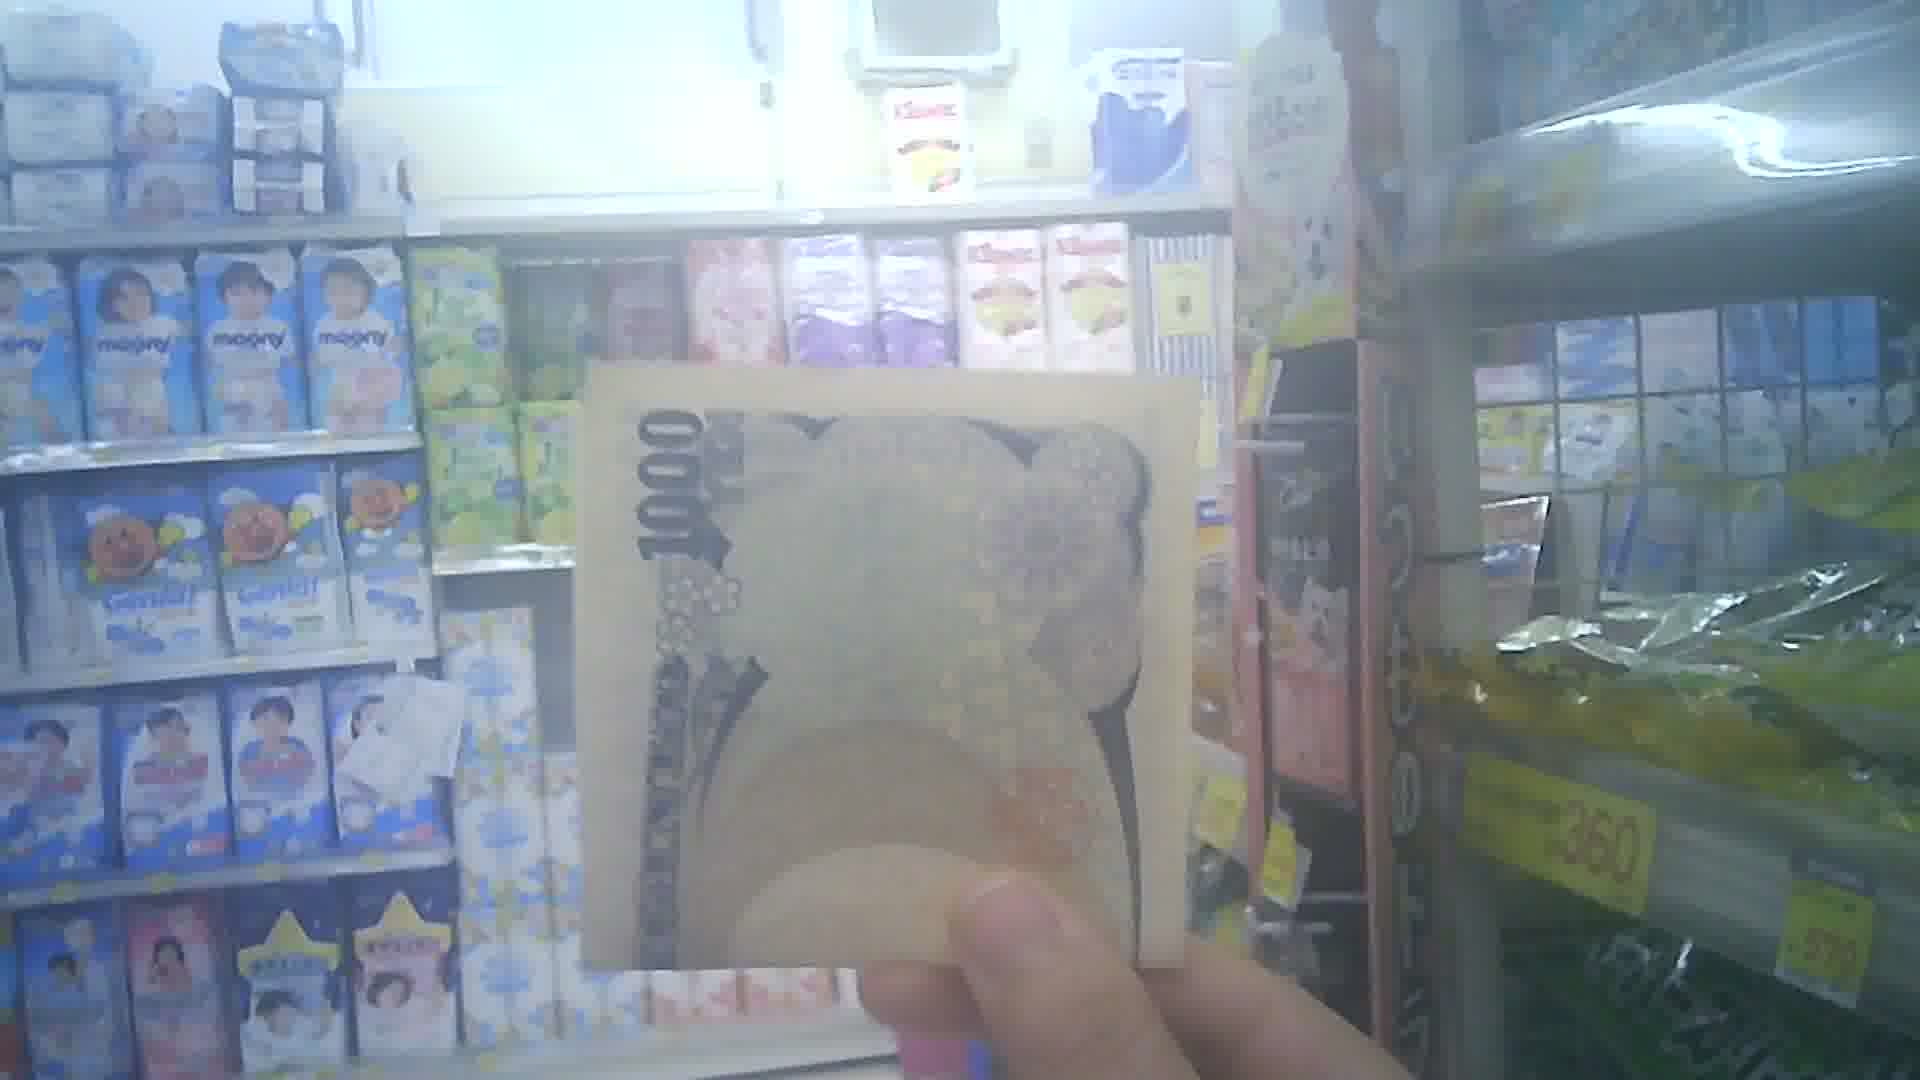1,000 Yen: (579, 356, 1199, 986)
